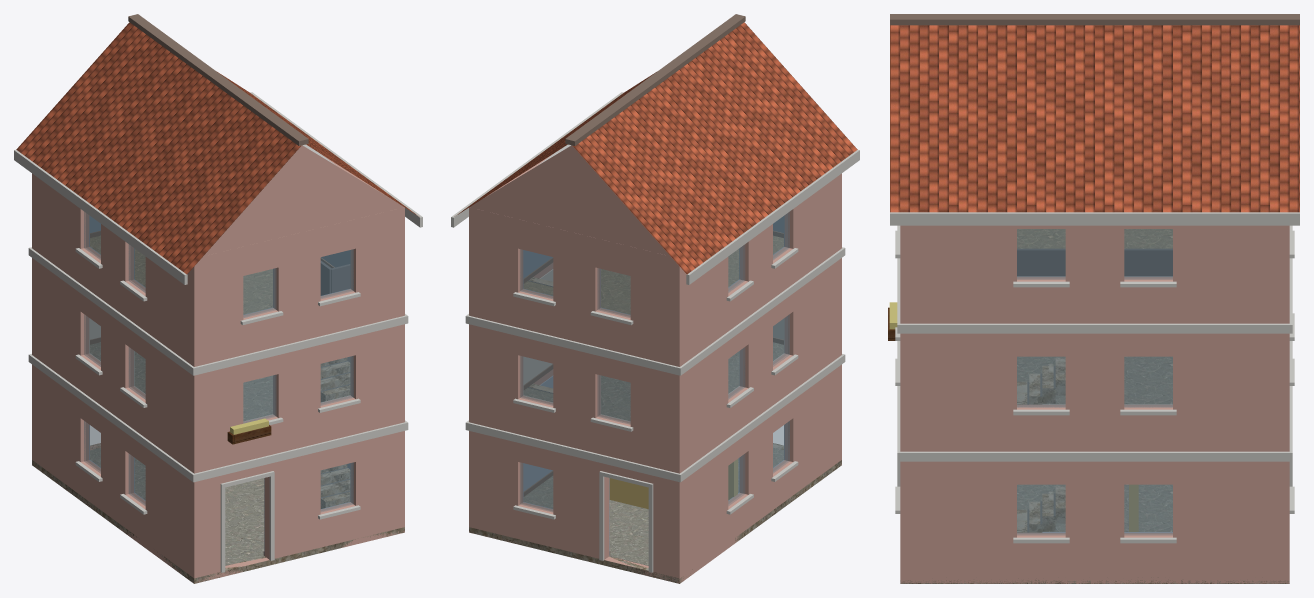
The model's file is cove-house-salmon.coast-v1.lod0.glb.
3 views of the same model, side by side, from view 1: azimuth 30°, elevation 25°; view 2: azimuth 150°, elevation 25°; view 3: azimuth 270°, elevation 25° (orthographic). The views are drawn at different scales.
Visible parts, largest first — view 1: cove-house-salmon; view 2: cove-house-salmon; view 3: cove-house-salmon.
Boxes of the visible parts, left/top/right/bottom form: cove-house-salmon: left=14, top=14, right=422, bottom=583; cove-house-salmon: left=451, top=14, right=859, bottom=583; cove-house-salmon: left=888, top=14, right=1299, bottom=583.
Bounding box in the file's own units: 6.78 × 11.46 × 8.46.
Materials: 6 (4 with a texture image).
